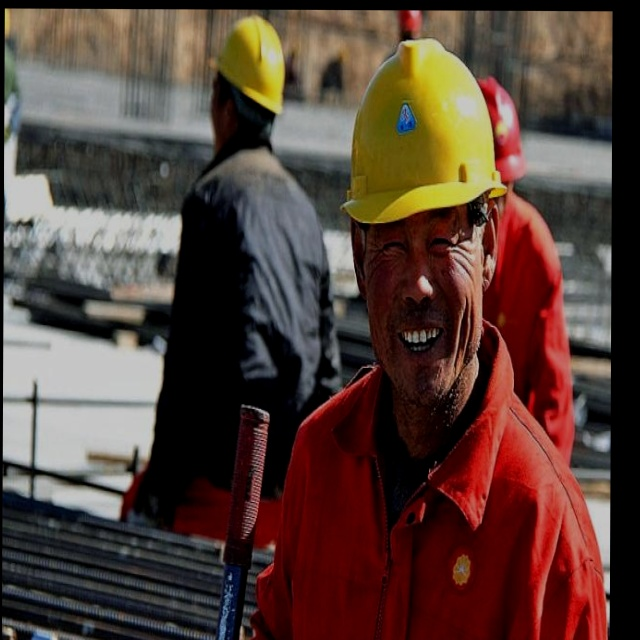Con_Casco: (341, 36, 498, 419)
